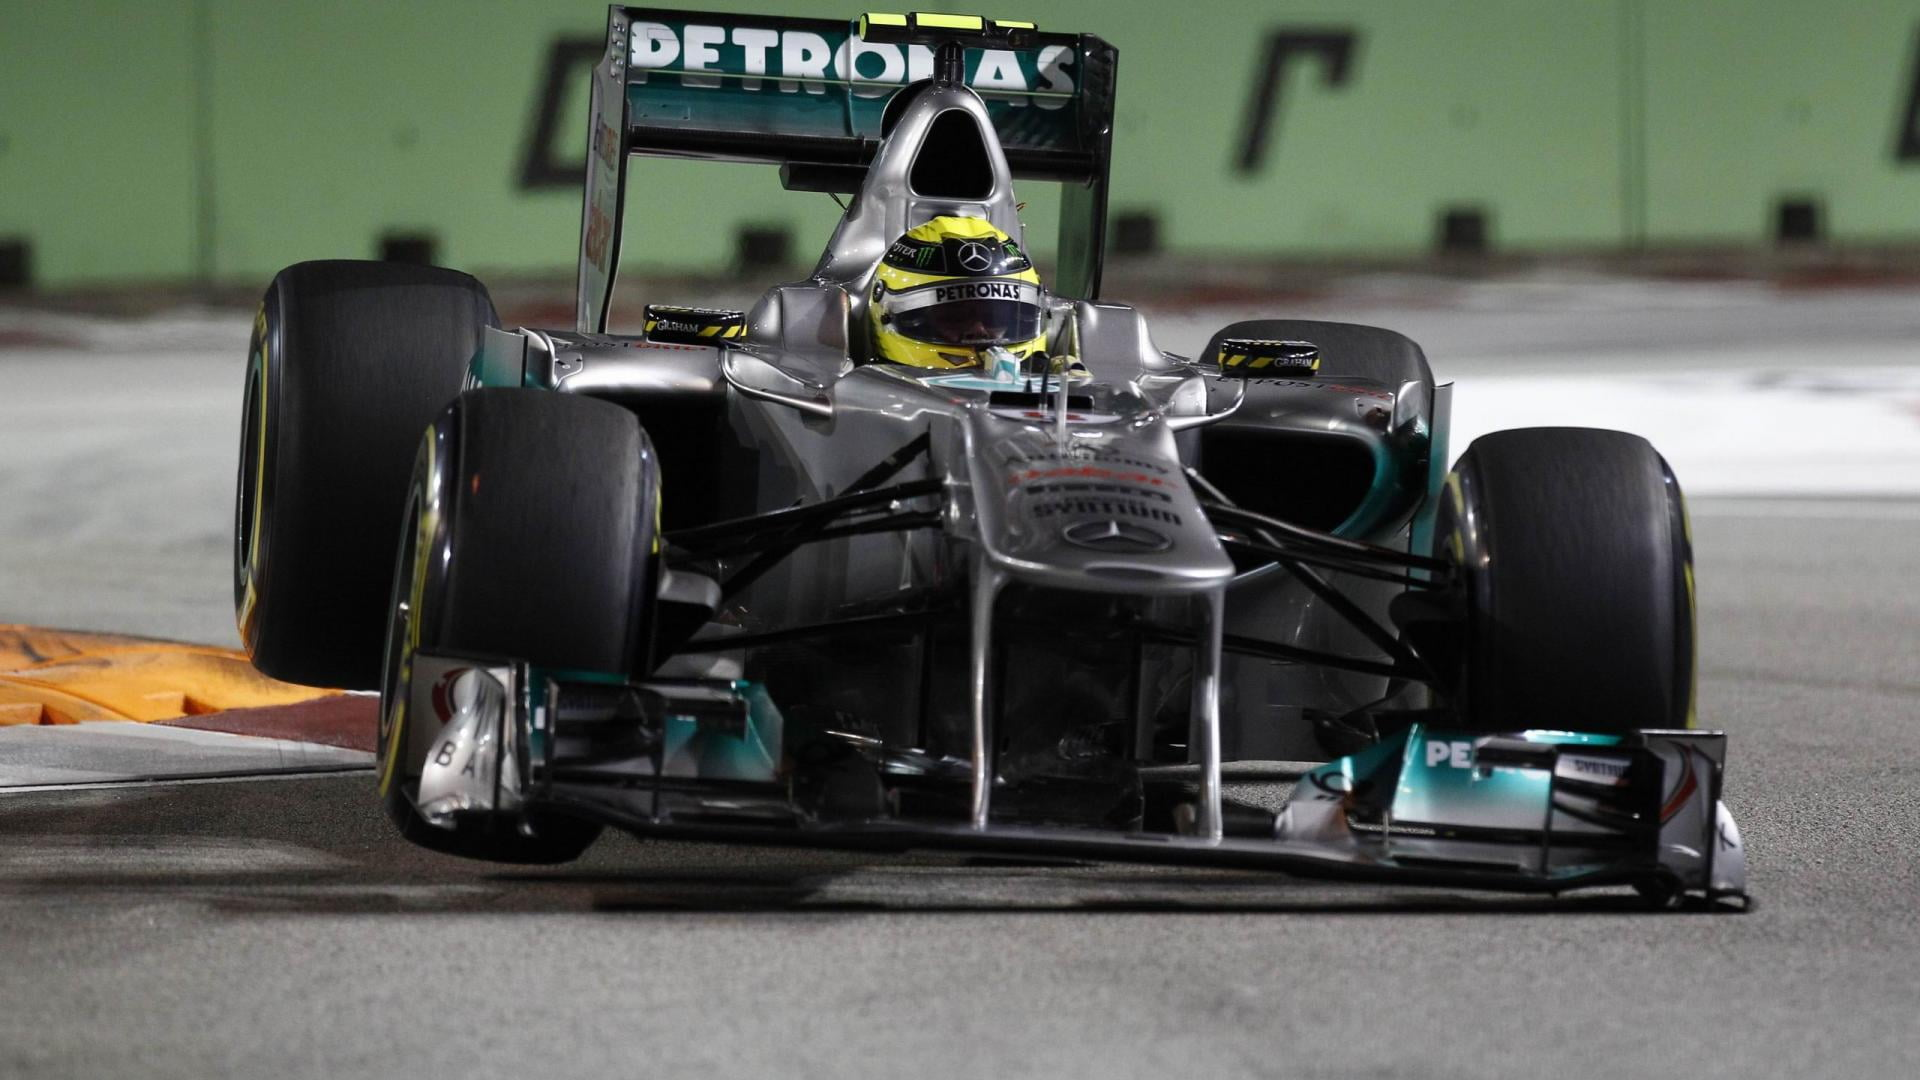f1_car: (196, 9, 1800, 949)
helmet: (851, 204, 1080, 407)
